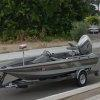Boat: (1, 38, 98, 91)
